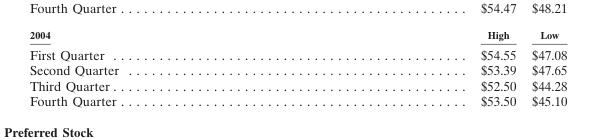table: (28, 28, 566, 108)
table column: (28, 28, 299, 108), (299, 28, 523, 108), (523, 28, 566, 108)
table column header: (28, 28, 566, 43)
table row: (28, 43, 566, 62), (28, 77, 566, 93), (28, 28, 566, 43), (28, 62, 566, 77), (28, 93, 566, 108)
